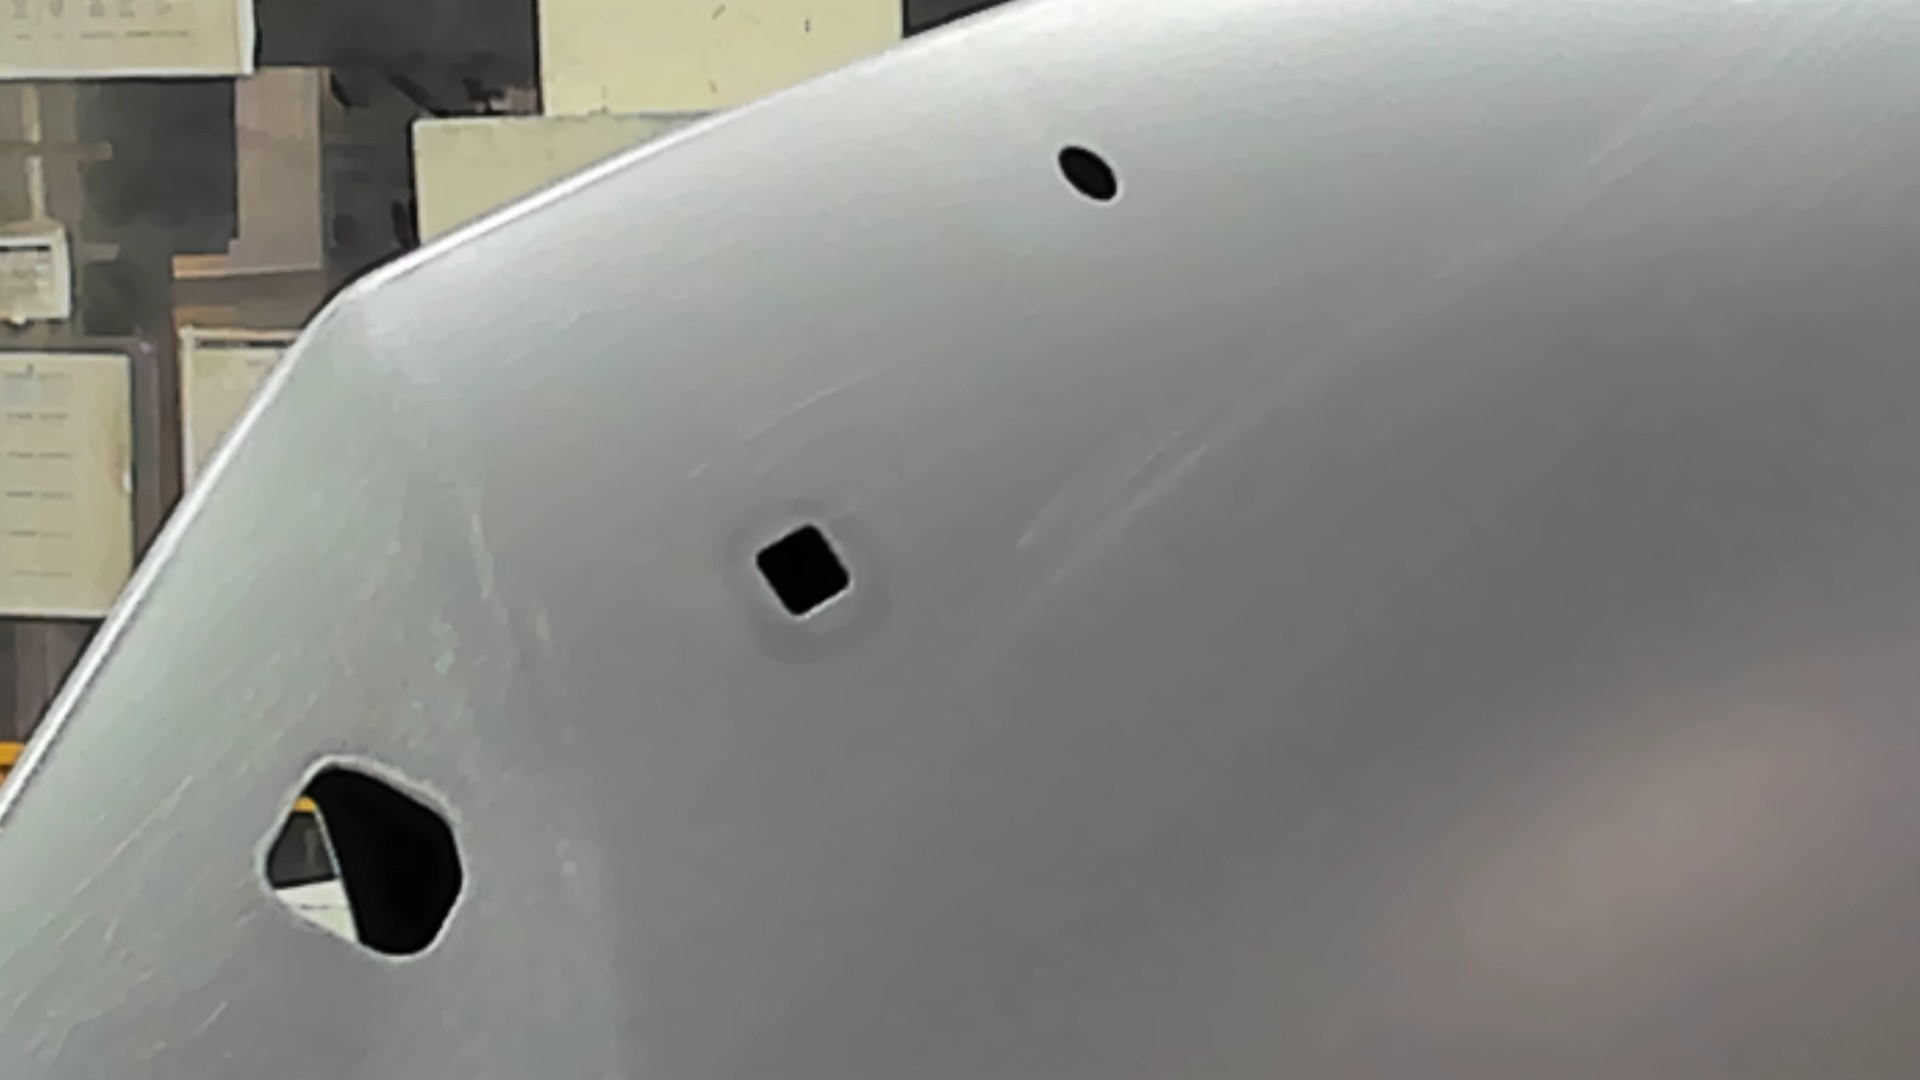chico: (1055, 144, 1124, 204)
grande: (255, 752, 471, 973)
mediano: (746, 517, 858, 628)
